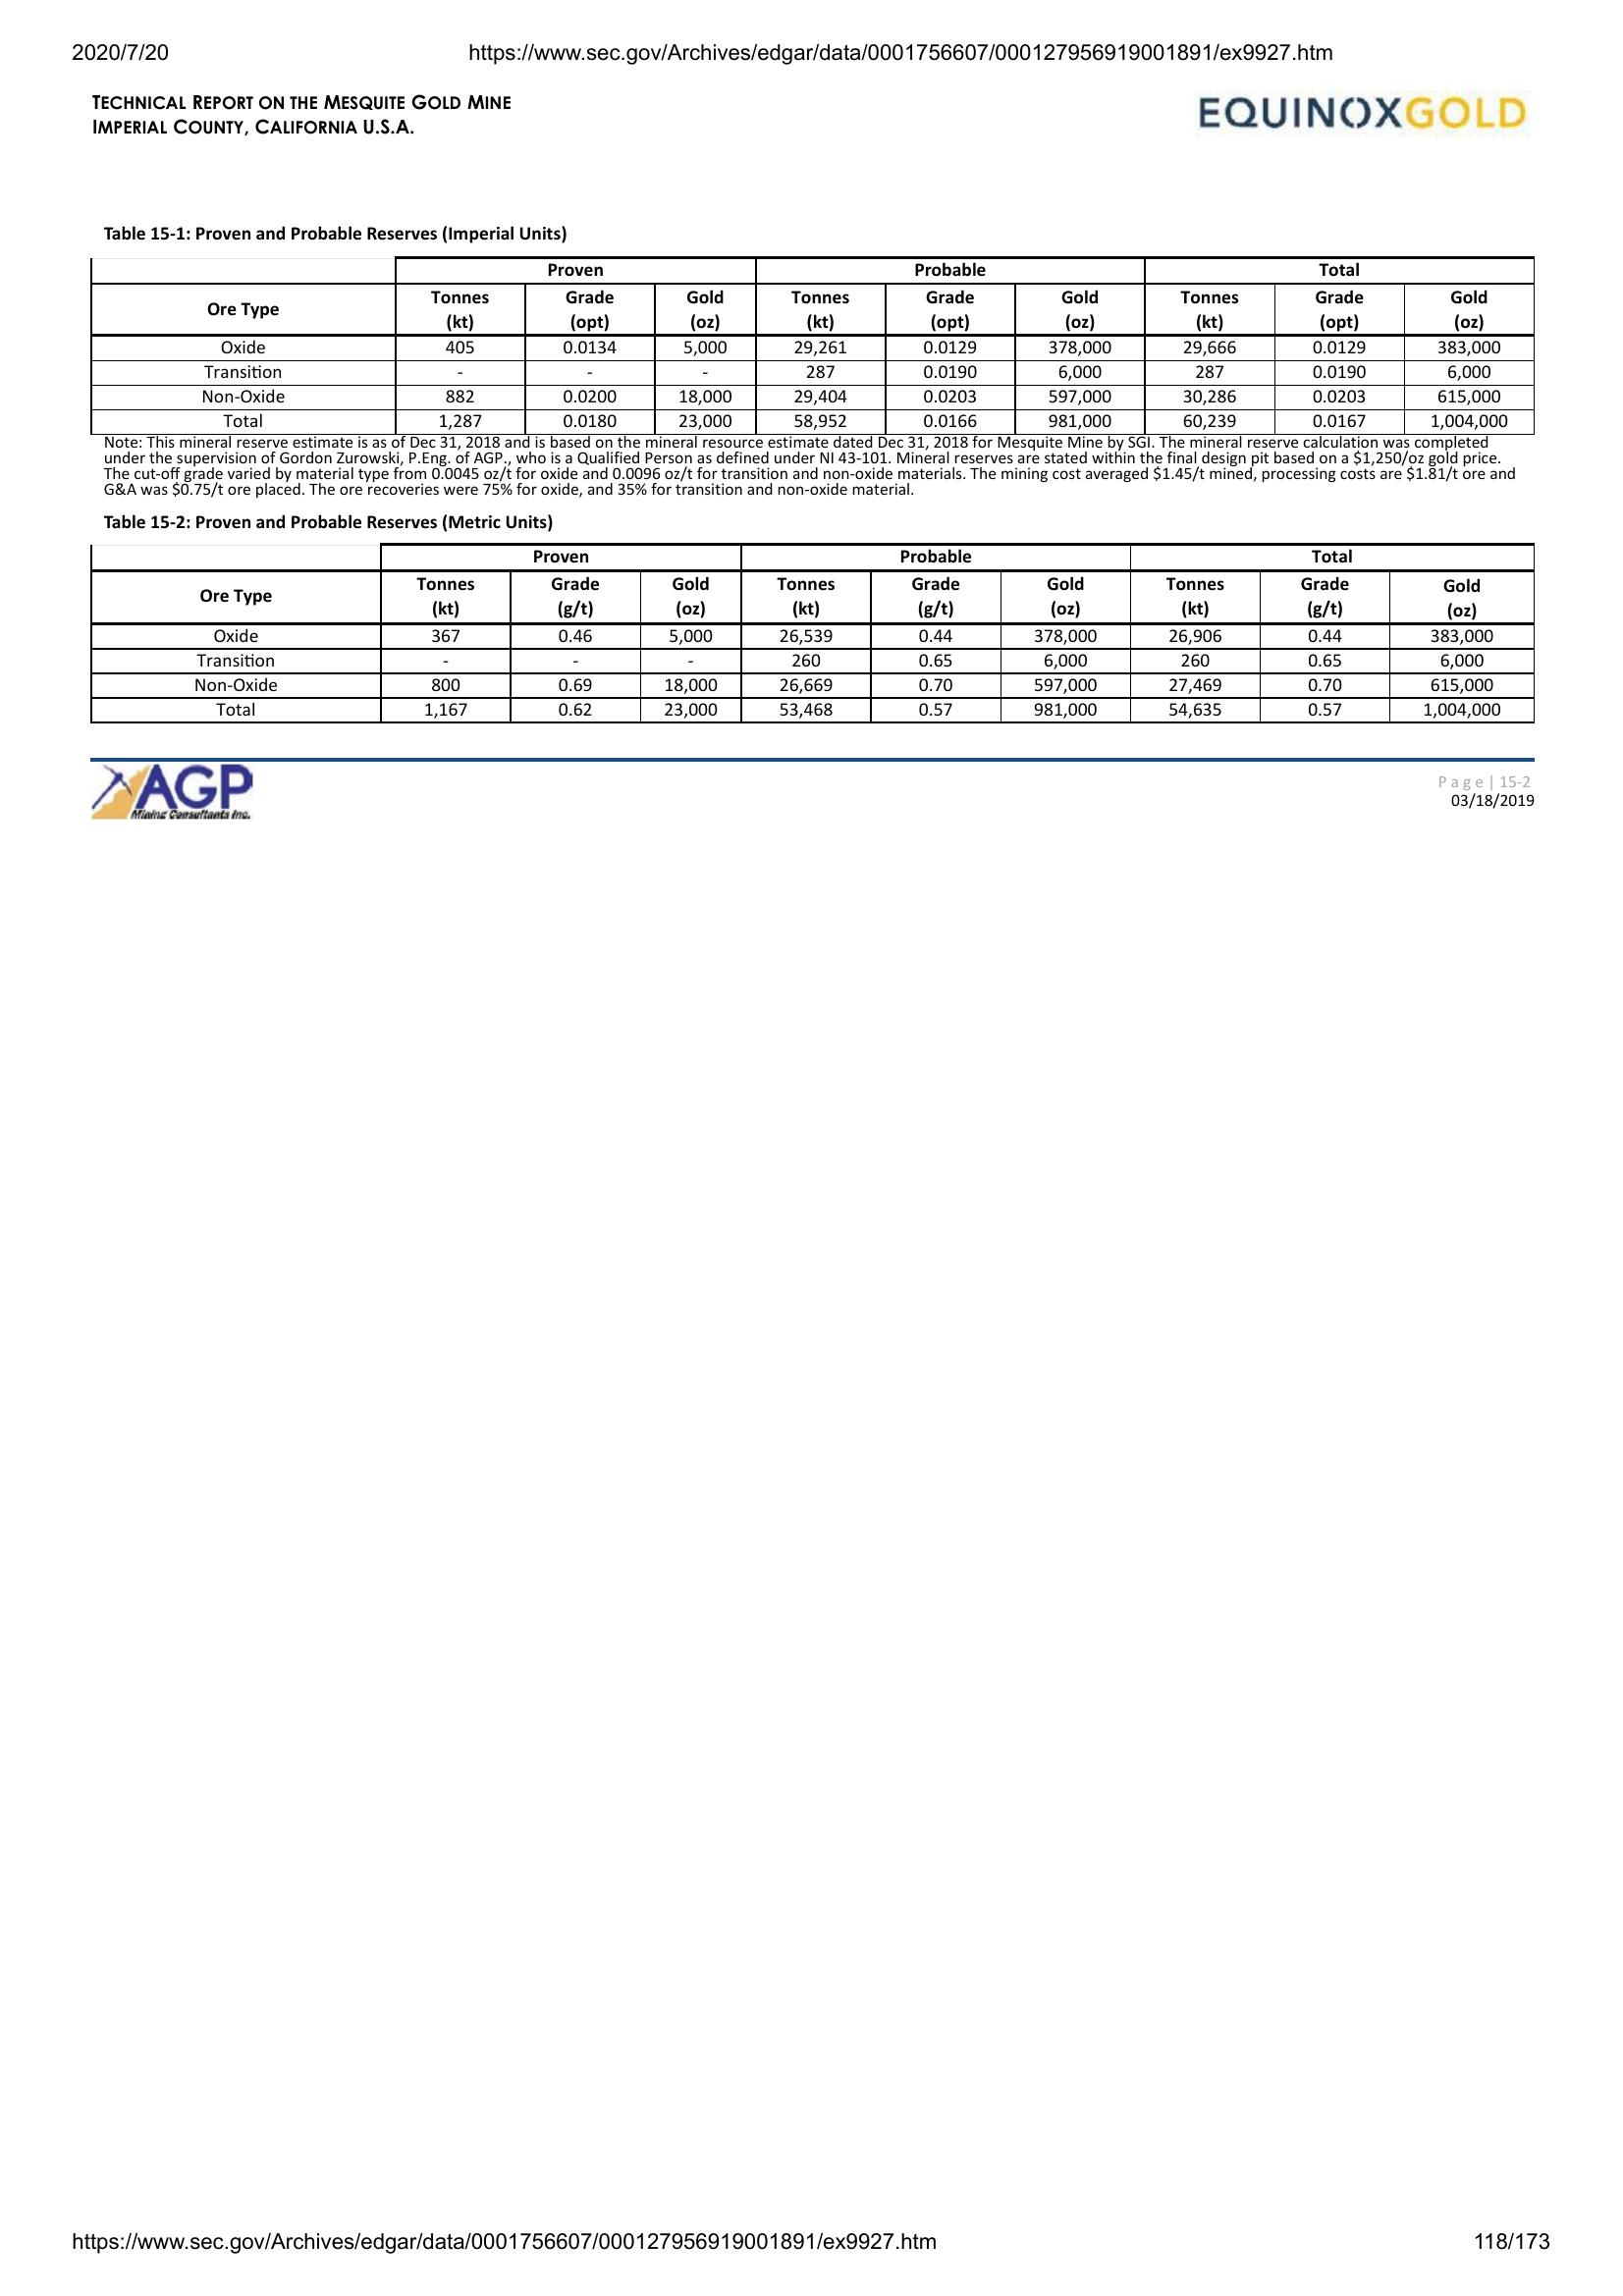table: (86, 537, 1542, 732), (86, 253, 1540, 435)
